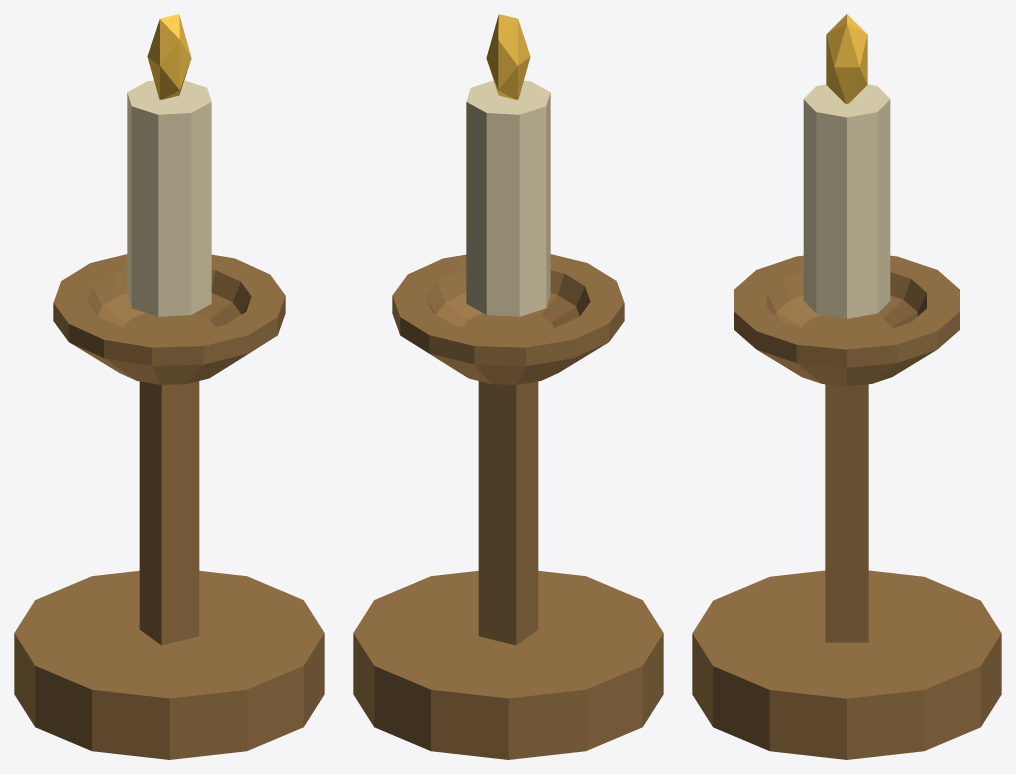
The model's file is Candlestick__Pricket.fbx.
The picture shows the model from 3 angles, left to right: view 1: azimuth 30°, elevation 25°; view 2: azimuth 150°, elevation 25°; view 3: azimuth 270°, elevation 25°; orthographic projection.
Parts seen in each view (by area): view 1: Candlestick__Pricket; view 2: Candlestick__Pricket; view 3: Candlestick__Pricket.
Part boxes in pixels (x1,y1,x2,y2): Candlestick__Pricket: [14, 14, 324, 759]; Candlestick__Pricket: [353, 14, 663, 759]; Candlestick__Pricket: [692, 14, 1001, 759].
Size of the model in its own units: 32 by 77.18 by 32.
Materials: 1 (1 with a texture image).
